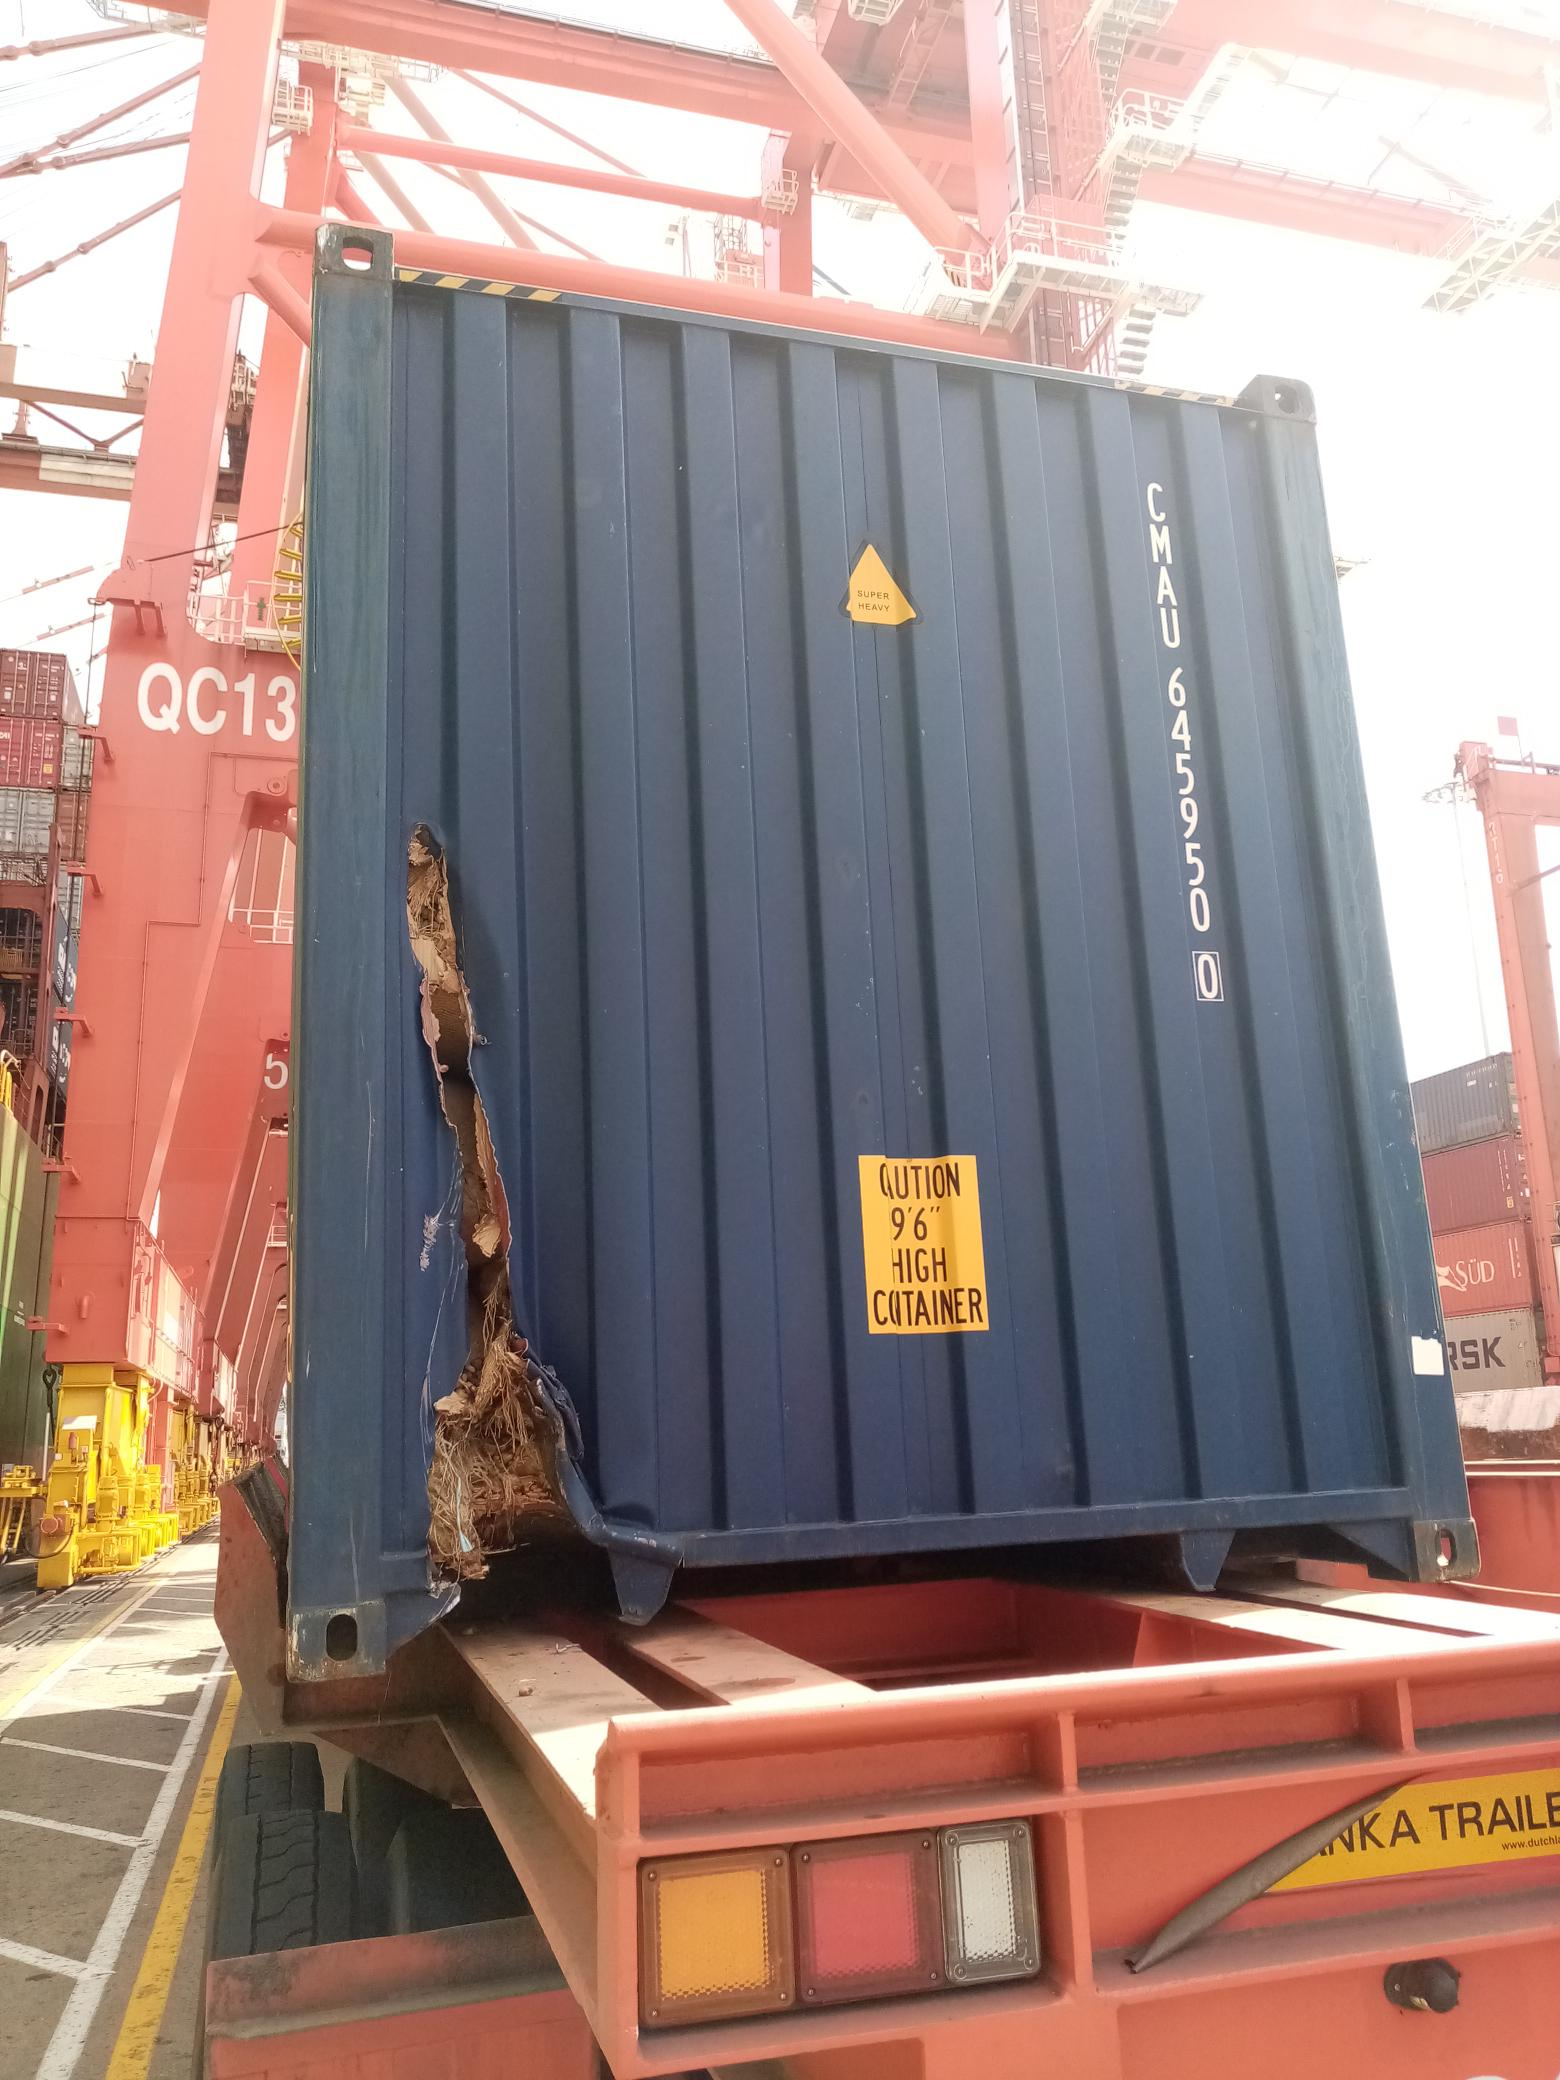cut: (361, 788, 659, 1549)
